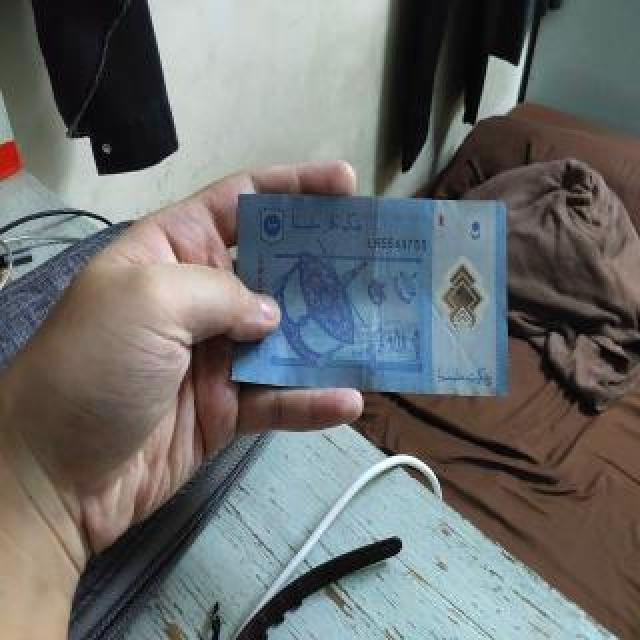1 Ringgit: (224, 192, 511, 390)
